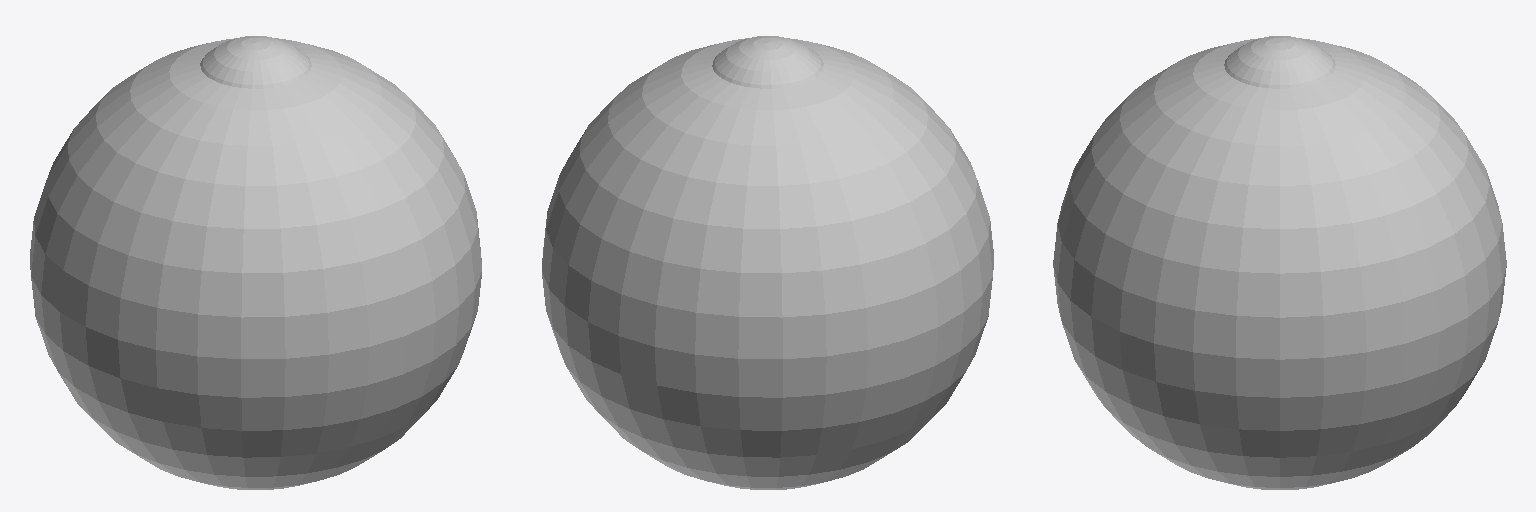
File: frogegg.obj
3 renders of one model, left to right at view 1: azimuth 30°, elevation 25°; view 2: azimuth 150°, elevation 25°; view 3: azimuth 270°, elevation 25°, orthographic.
Parts seen in each view (by area): view 1: Sphere, Sphere.001; view 2: Sphere, Sphere.001; view 3: Sphere, Sphere.001.
Part boxes in pixels (x1,y1,x2,y2): Sphere: (30,38,481,489); Sphere.001: (200,36,311,88); Sphere: (542,38,993,489); Sphere.001: (712,36,823,88); Sphere: (1053,38,1506,489); Sphere.001: (1224,36,1335,88).
Bounding box in the file's own units: 2 × 2.08 × 2.